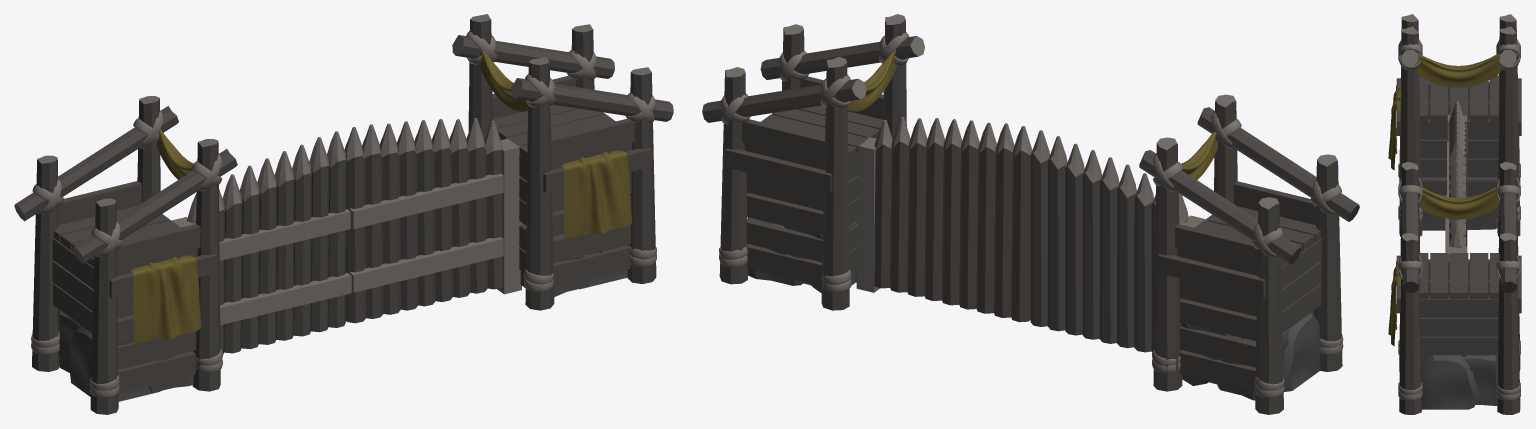
File: fence_2lv.fbx
3 renders of one model, left to right at view 1: azimuth 30°, elevation 25°; view 2: azimuth 150°, elevation 25°; view 3: azimuth 270°, elevation 25°, orthographic. The views are drawn at different scales.
Parts seen in each view (by area): view 1: fence2_2, fence2, fence2_1; view 2: fence2_2, fence2, fence2_1; view 3: fence2_2, fence2, fence2_1.
Boxes of the visible parts, <box> form: fence2_2: <box>14,14,673,414</box>; fence2: <box>344,118,503,323</box>; fence2_1: <box>187,131,351,354</box>; fence2_2: <box>702,14,1359,414</box>; fence2: <box>874,117,1032,322</box>; fence2_1: <box>1030,130,1188,352</box>; fence2_2: <box>1388,14,1521,414</box>; fence2: <box>1445,142,1466,252</box>; fence2_1: <box>1445,101,1467,246</box>.
Bounding box in the file's own units: 1072 × 429 × 248.
